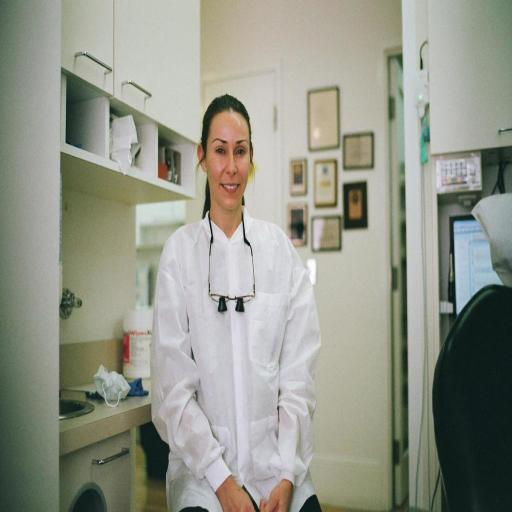Person: (137, 132, 331, 426)
no_gloves: (257, 398, 301, 426), (212, 399, 256, 426)
no_goggle: (209, 174, 254, 194)
no_helmet: (197, 140, 253, 174)
none: (159, 230, 321, 406)
